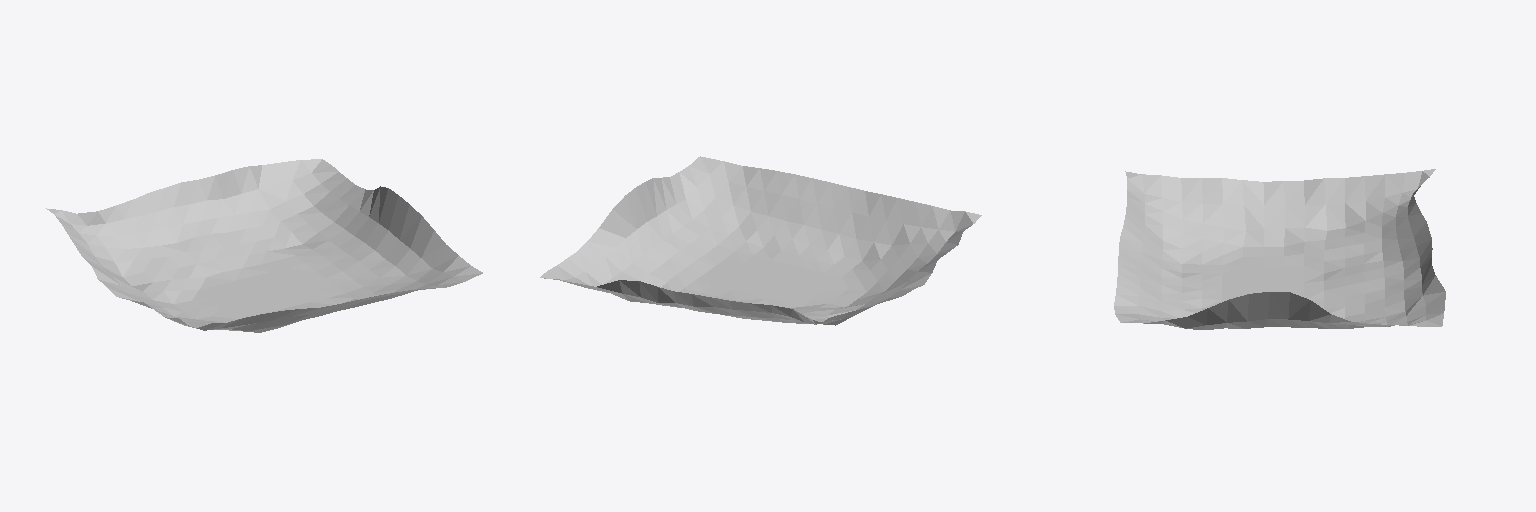
Rendered from terrain.obj.
The picture shows the model from 3 angles: view 1: azimuth 30°, elevation 25°; view 2: azimuth 150°, elevation 25°; view 3: azimuth 270°, elevation 25°; orthographic projection.
Visible parts, largest first — view 1: Plane; view 2: Plane; view 3: Plane.
Part boxes in pixels (x1,y1,x2,y2): Plane: (46,159,482,332); Plane: (540,156,981,325); Plane: (1114,169,1445,329).
Bounding box in the file's own units: 192 × 38.87 × 186.